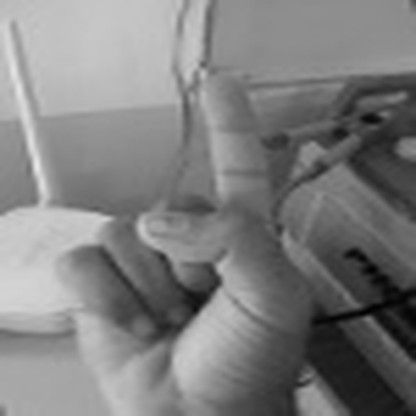d: (54, 67, 290, 410)
